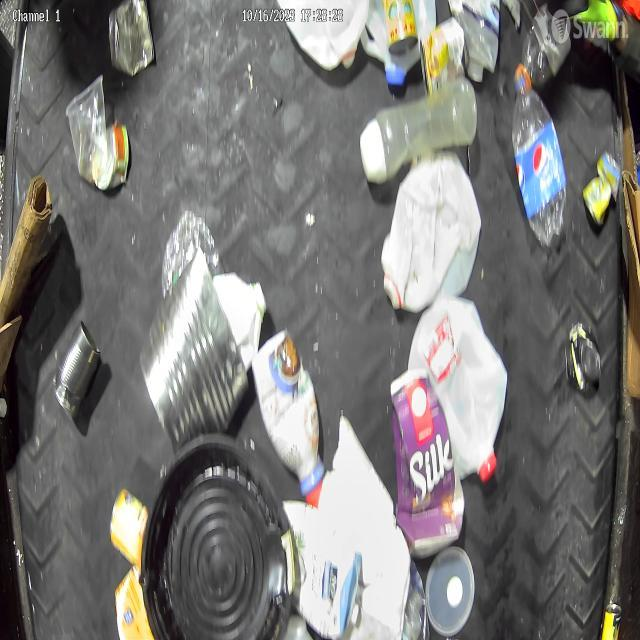can: (139, 248, 248, 462), (48, 316, 98, 430), (419, 23, 468, 96), (582, 156, 622, 233), (376, 0, 424, 54)
milk_jug: (402, 298, 514, 487), (378, 152, 482, 312)
plastic_bottle: (512, 61, 568, 249)
